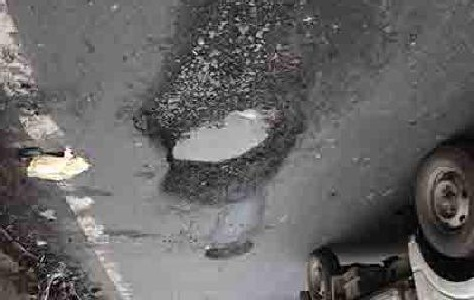pothole: (135, 4, 307, 207), (202, 239, 253, 262)
